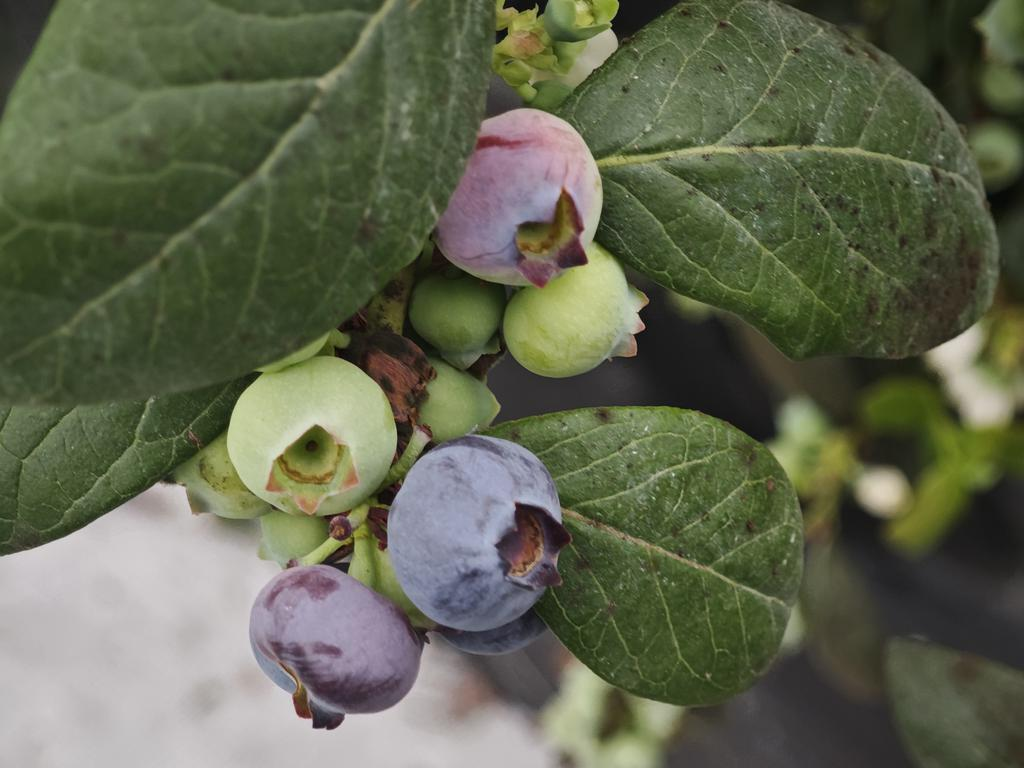Semi-RipeBlueBerry: (382, 424, 588, 622), (249, 552, 432, 717)
UnripeBlueBerry: (433, 108, 630, 287), (231, 351, 418, 509), (496, 247, 658, 383)
